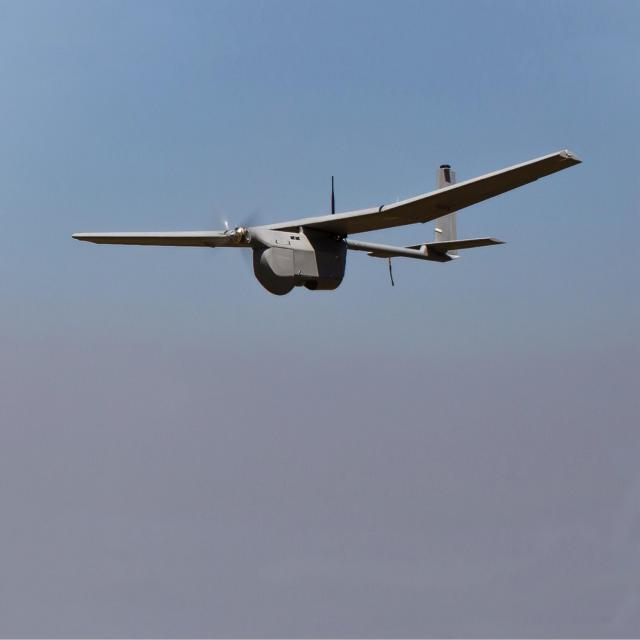UAV: (99, 168, 527, 318)
